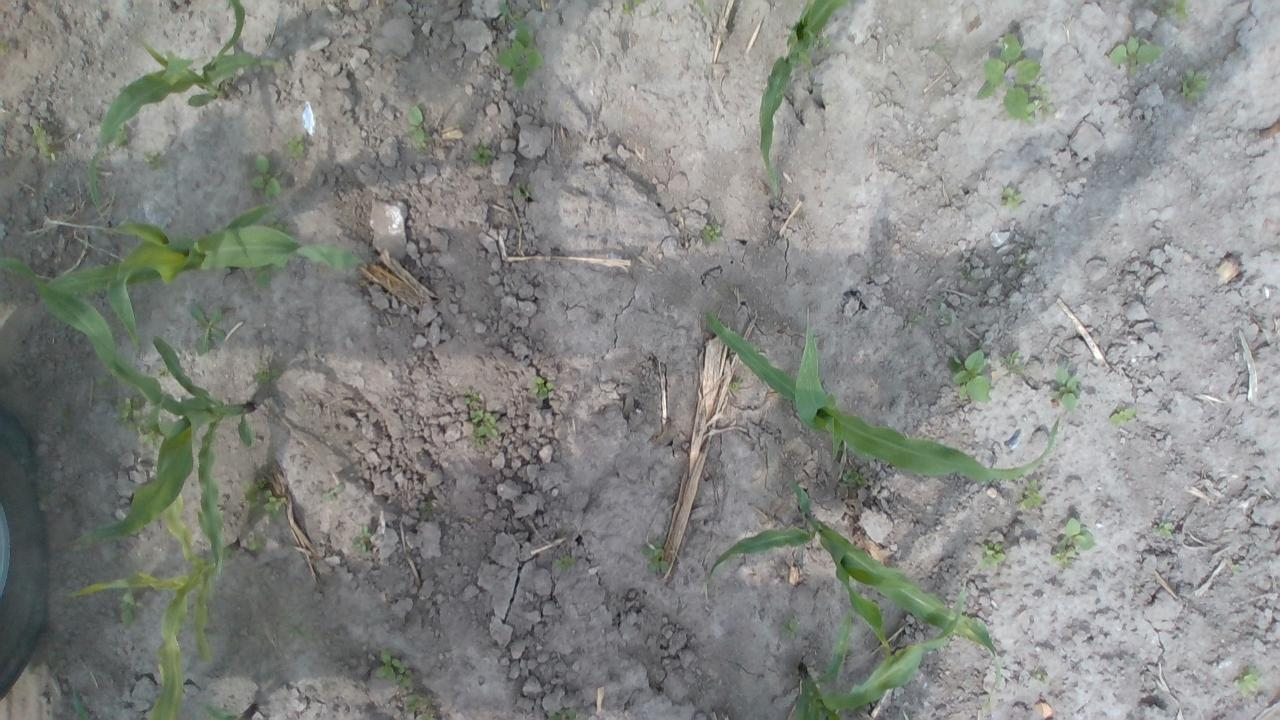Maize: (3, 257, 257, 577), (708, 481, 1001, 696), (701, 308, 1058, 478), (46, 223, 365, 354), (86, 0, 280, 213), (65, 490, 214, 720), (788, 580, 964, 720), (759, 0, 848, 175), (200, 704, 260, 720), (69, 691, 85, 717)
Weeds: (976, 32, 1047, 124), (496, 30, 542, 86), (188, 300, 230, 356), (949, 350, 992, 404), (1106, 36, 1160, 74), (248, 152, 282, 194), (1050, 366, 1081, 412), (467, 394, 494, 446), (639, 539, 670, 572), (1062, 520, 1094, 550), (113, 395, 141, 424), (496, 1, 523, 29), (408, 104, 425, 148), (1178, 74, 1206, 100), (122, 593, 142, 629), (375, 652, 402, 678), (33, 128, 59, 152), (404, 699, 435, 719), (1238, 668, 1260, 696), (243, 481, 264, 510), (1018, 480, 1040, 506), (254, 360, 282, 380), (981, 543, 1004, 566), (264, 489, 285, 513), (144, 148, 170, 165), (1001, 186, 1021, 207), (842, 470, 865, 488), (0, 33, 16, 58), (351, 532, 373, 550), (282, 133, 302, 152), (254, 57, 274, 75), (324, 484, 344, 502), (472, 142, 490, 160), (1111, 407, 1134, 421), (1155, 522, 1176, 537), (292, 617, 308, 636), (704, 224, 720, 243), (531, 384, 554, 397), (1171, 0, 1189, 16), (551, 707, 573, 720), (558, 556, 576, 571), (1006, 350, 1020, 369), (114, 126, 130, 142), (620, 0, 642, 10), (398, 674, 413, 688), (1054, 552, 1069, 563), (782, 620, 795, 632), (960, 264, 971, 278), (1032, 668, 1046, 678), (695, 0, 705, 10)
